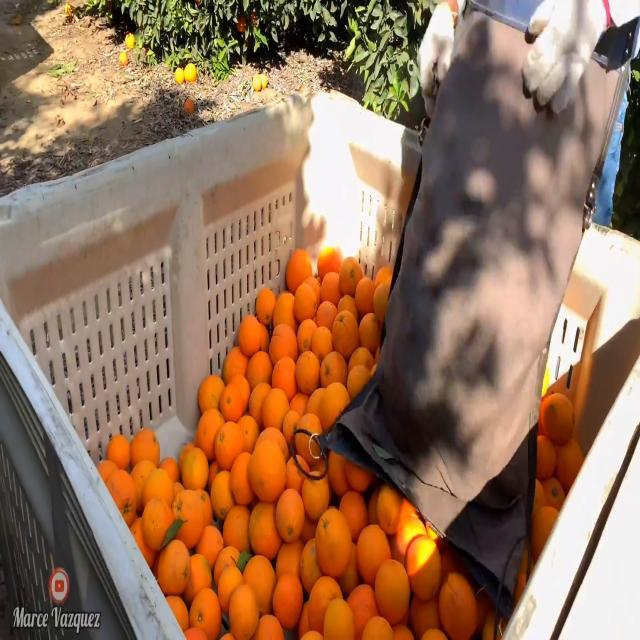Jeruk Sudah Matang: (311, 502, 355, 582), (370, 553, 410, 623), (405, 534, 444, 602), (272, 483, 306, 542), (142, 492, 176, 550), (228, 582, 259, 640), (213, 419, 244, 466), (218, 381, 244, 421), (236, 316, 260, 353)
